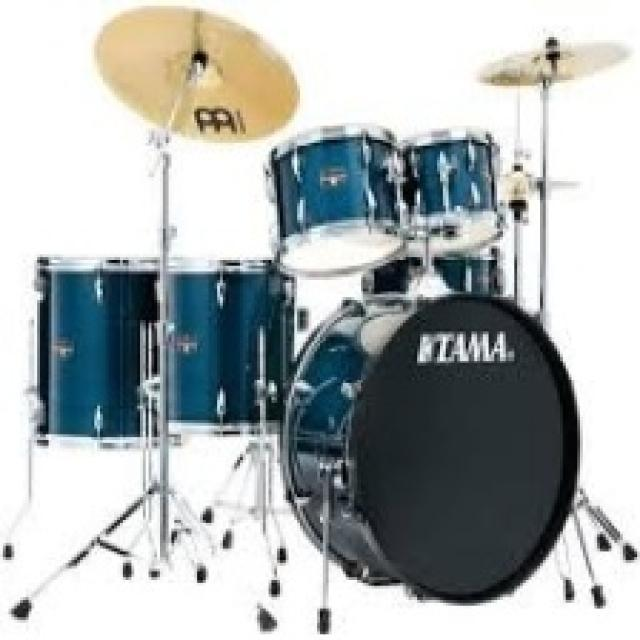drums: (25, 1, 637, 602)
